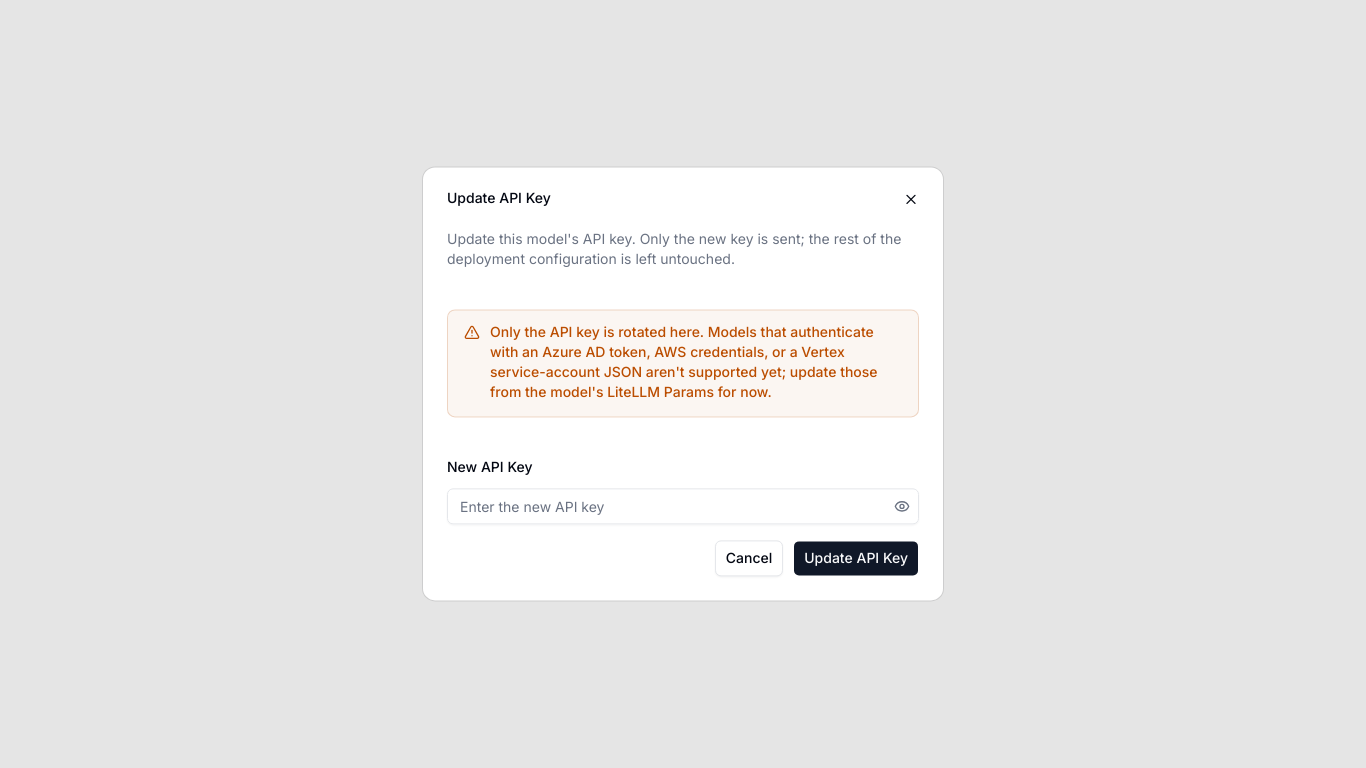
UpdateModelCredentialsModal › reveals and re-hides the key without touching the value
In the password field labelled "New API Key": (669, 507) x1=448 y1=489 x2=890 y2=525, type "sk-peek-42"
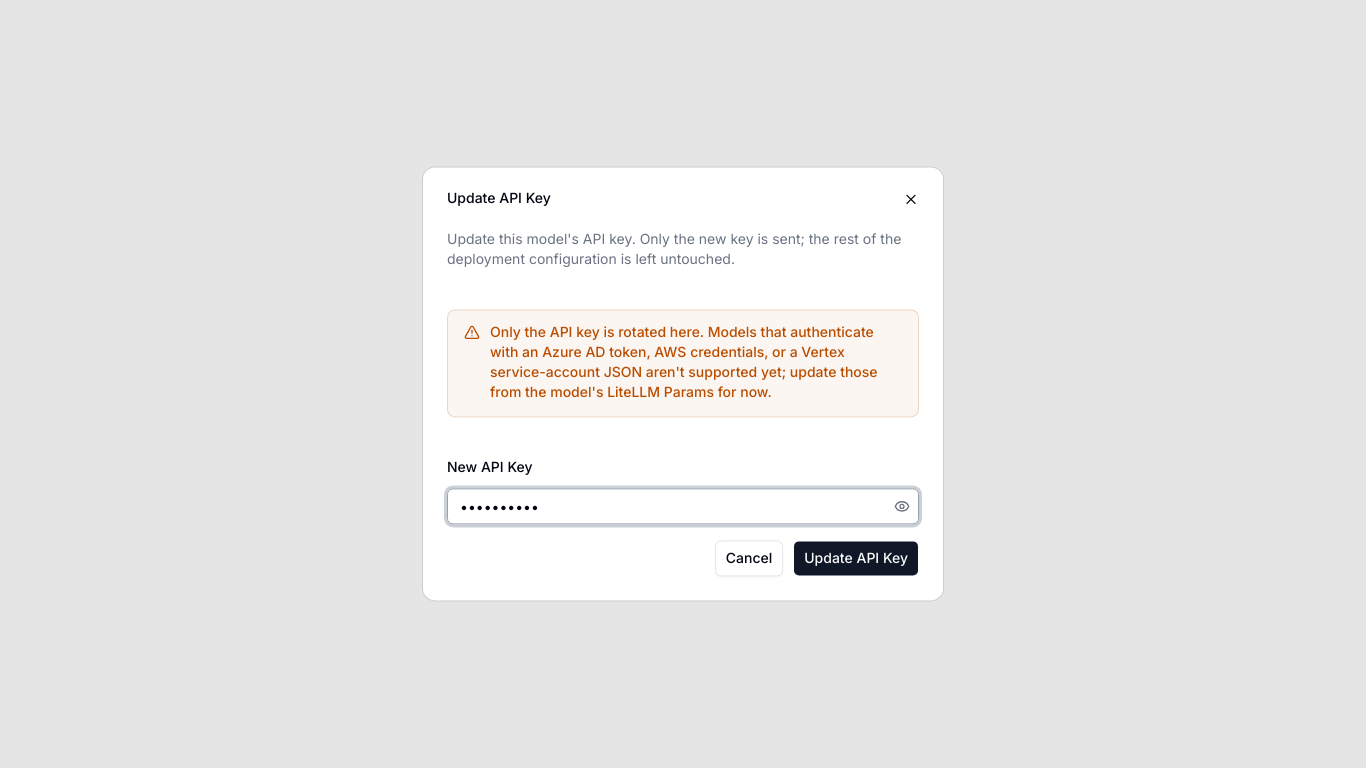
Click the button named "show password": click(902, 507) x1=890 y1=495 x2=914 y2=519
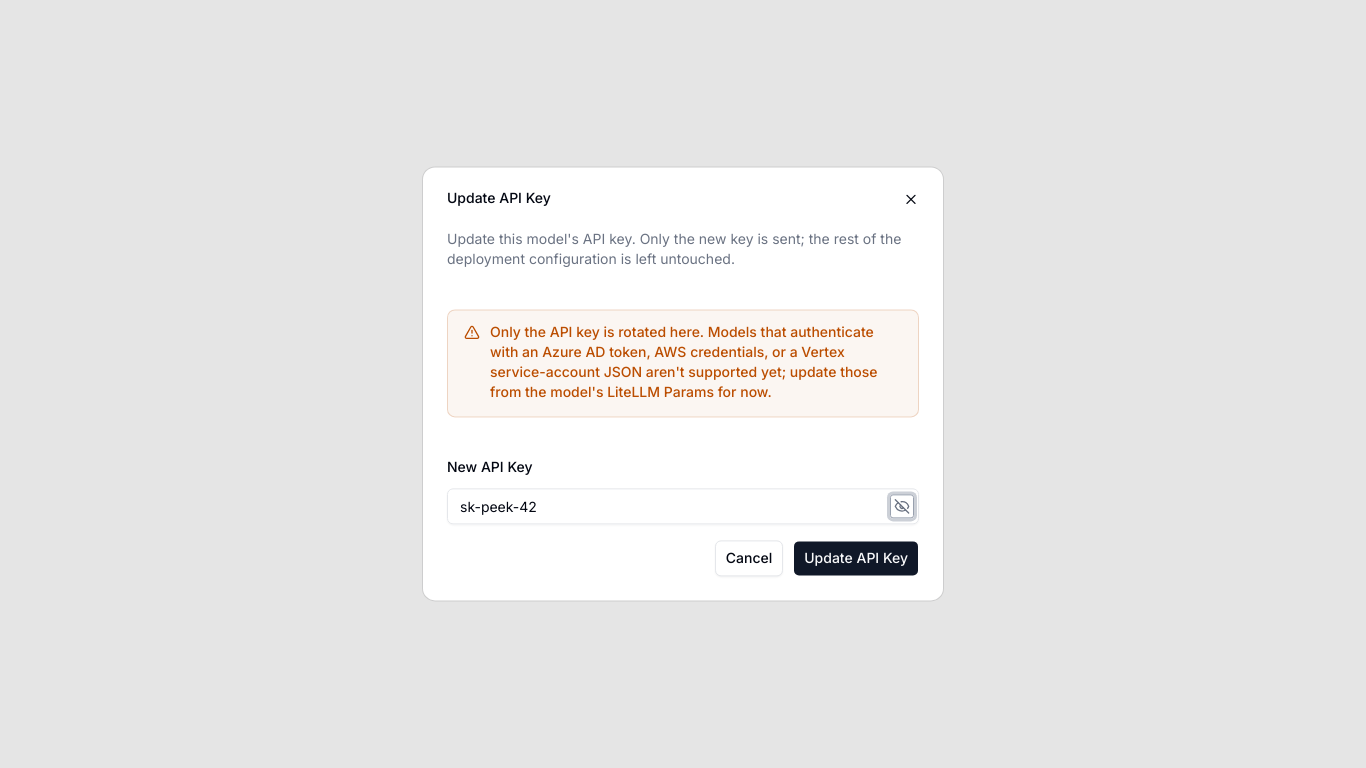
Expected: the field labelled "New API Key" shows its text, x1=448 y1=489 x2=890 y2=525
Click the button named "hide password": click(902, 507) x1=890 y1=495 x2=914 y2=519
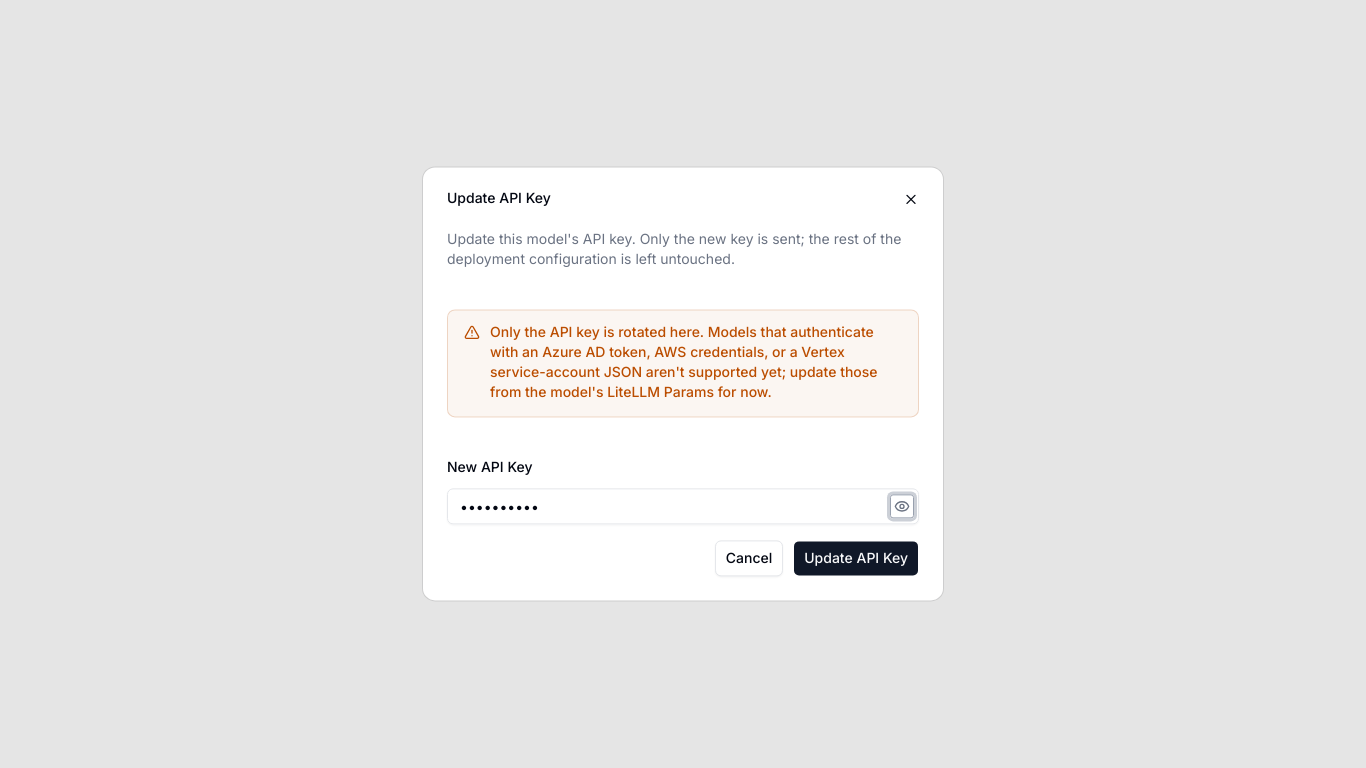
Expected: the password field labelled "New API Key" hides its text, x1=448 y1=489 x2=890 y2=525
